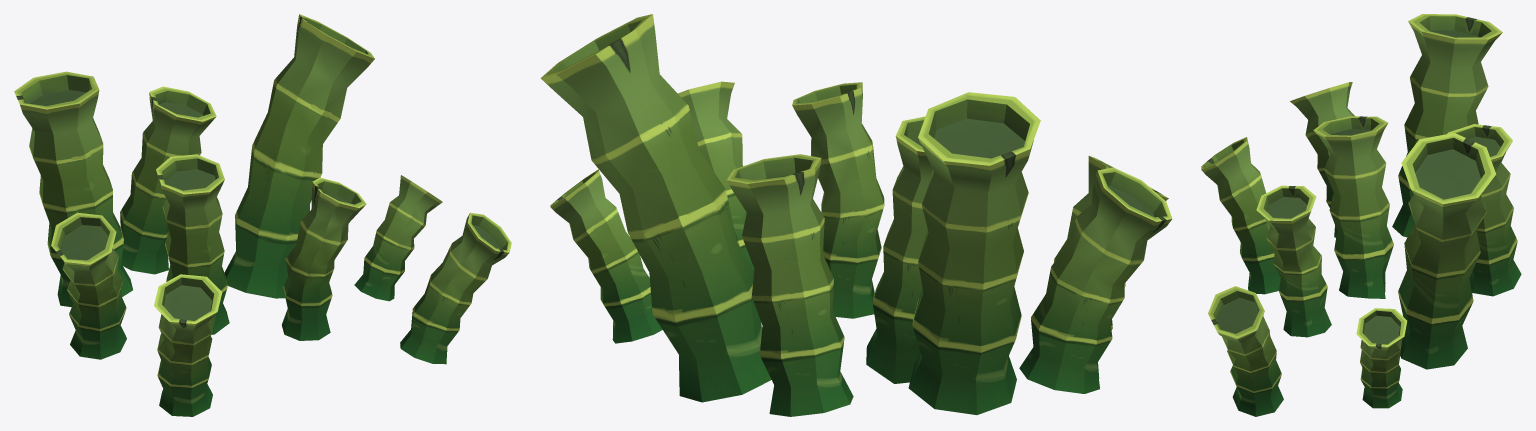
Rendered from bamboo Tree.FBX.
3 renders of one model, left to right at view 1: azimuth 30°, elevation 25°; view 2: azimuth 150°, elevation 25°; view 3: azimuth 270°, elevation 25°, orthographic. The views are drawn at different scales.
Parts seen in each view (by area): view 1: bamboos_bamboo14, bamboo6_bamboos, bamboos_bamboo10, bamboos_bamboo12, bamboos_bamboo15, bamboos_bamboo16, bamboos_bamboo11, bamboos_bamboo18, bamboos_bamboo13; view 2: bamboos_bamboo14, bamboo6_bamboos, bamboos_bamboo10, bamboos_bamboo12, bamboos_bamboo15, bamboos_bamboo16, bamboos_bamboo13, bamboos_bamboo18, bamboos_bamboo11; view 3: bamboos_bamboo14, bamboos_bamboo16, bamboo6_bamboos, bamboos_bamboo15, bamboos_bamboo18, bamboos_bamboo11, bamboos_bamboo10, bamboos_bamboo13, bamboos_bamboo12.
Part boxes in pixels (x1,y1,x2,y2): bamboos_bamboo14: [224, 14, 374, 298]; bamboo6_bamboos: [14, 71, 132, 307]; bamboos_bamboo10: [120, 86, 216, 274]; bamboos_bamboo12: [51, 212, 126, 359]; bamboos_bamboo15: [282, 177, 366, 340]; bamboos_bamboo16: [156, 154, 229, 334]; bamboos_bamboo11: [154, 274, 222, 416]; bamboos_bamboo18: [400, 212, 511, 364]; bamboos_bamboo13: [354, 175, 442, 301]; bamboos_bamboo14: [540, 14, 771, 402]; bamboo6_bamboos: [908, 92, 1040, 414]; bamboos_bamboo10: [726, 154, 853, 416]; bamboos_bamboo12: [1019, 167, 1172, 393]; bamboos_bamboo15: [792, 82, 884, 318]; bamboos_bamboo16: [866, 116, 932, 383]; bamboos_bamboo13: [550, 169, 662, 343]; bamboos_bamboo18: [678, 81, 754, 269]; bamboos_bamboo11: [1054, 156, 1168, 378]; bamboos_bamboo14: [1398, 133, 1496, 369]; bamboos_bamboo16: [1313, 116, 1393, 298]; bamboo6_bamboos: [1392, 14, 1502, 237]; bamboos_bamboo15: [1256, 185, 1331, 337]; bamboos_bamboo18: [1208, 286, 1283, 416]; bamboos_bamboo11: [1201, 137, 1280, 294]; bamboos_bamboo10: [1447, 124, 1521, 296]; bamboos_bamboo13: [1356, 308, 1407, 408]; bamboos_bamboo12: [1290, 82, 1354, 237].
Bounding box in the file's own units: 18.2 × 11.6 × 12.7.
